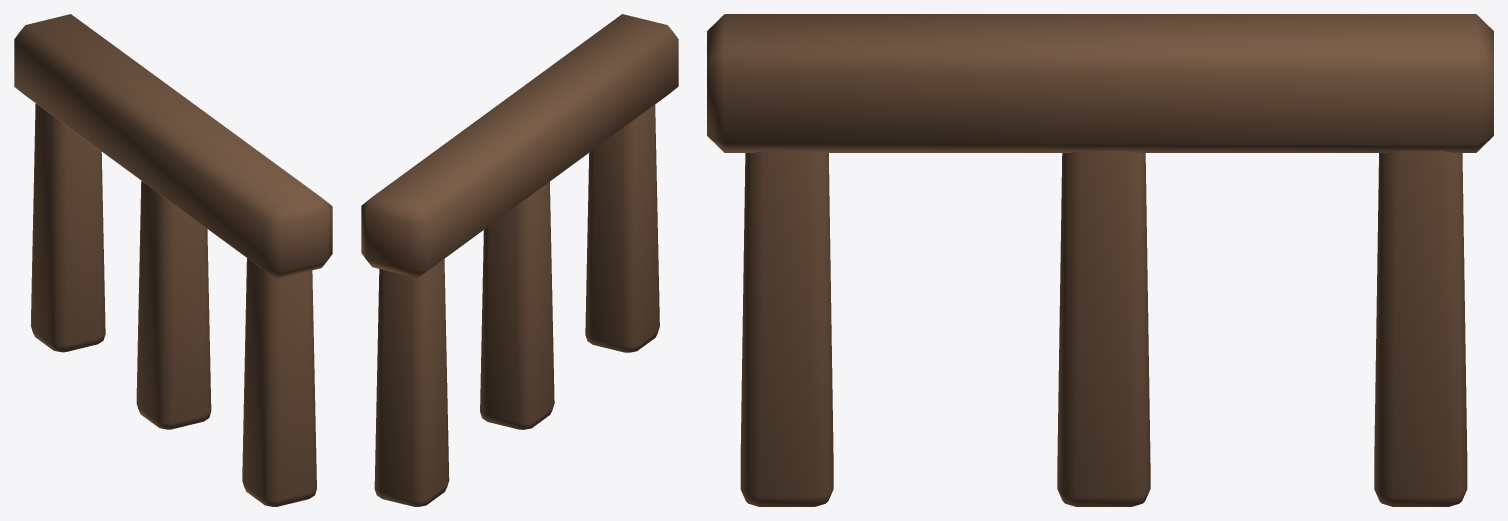
File: MOD_Railing_Small.fbx
3 views of the same model, side by side, from view 1: azimuth 30°, elevation 25°; view 2: azimuth 150°, elevation 25°; view 3: azimuth 270°, elevation 25° (orthographic). The views are drawn at different scales.
Visible parts, largest first — view 1: MOD_Railing1.001; view 2: MOD_Railing1.001; view 3: MOD_Railing1.001.
Boxes of the visible parts, x1,y1,x2,y2 form: MOD_Railing1.001: (14,14,332,506); MOD_Railing1.001: (361,14,678,506); MOD_Railing1.001: (707,14,1493,506).
Size of the model in its own units: 12.31 by 53.88 by 83.03.
